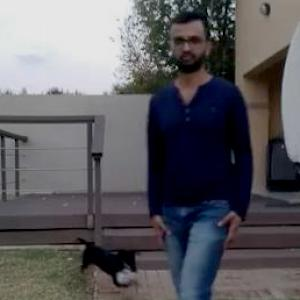follow: (124, 28, 235, 299)
